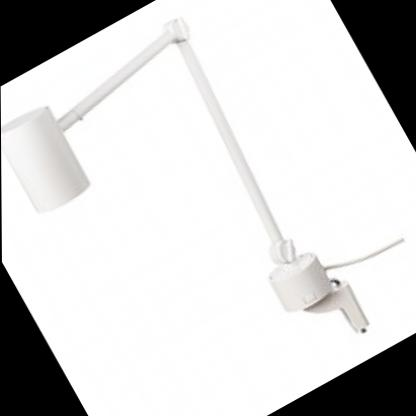Lamp: (0, 0, 393, 416)
